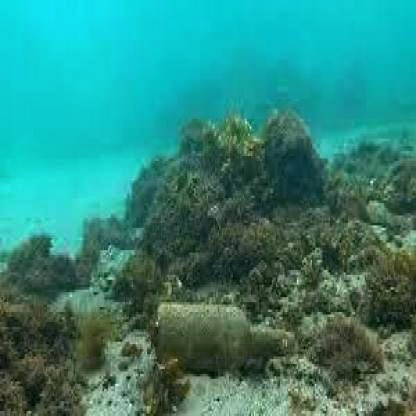gbottle: (155, 302, 298, 372)
